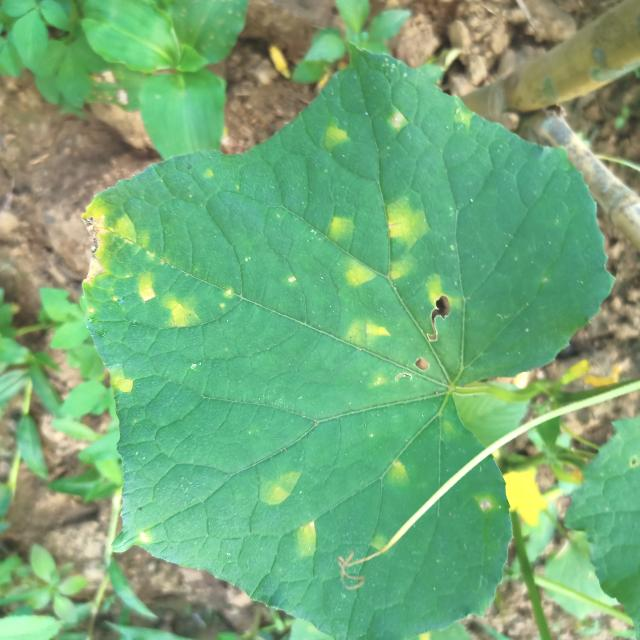disease_cucumber: (328, 184, 457, 390), (80, 182, 202, 326), (261, 456, 321, 564), (377, 452, 415, 501), (99, 359, 142, 401), (318, 112, 354, 156)
